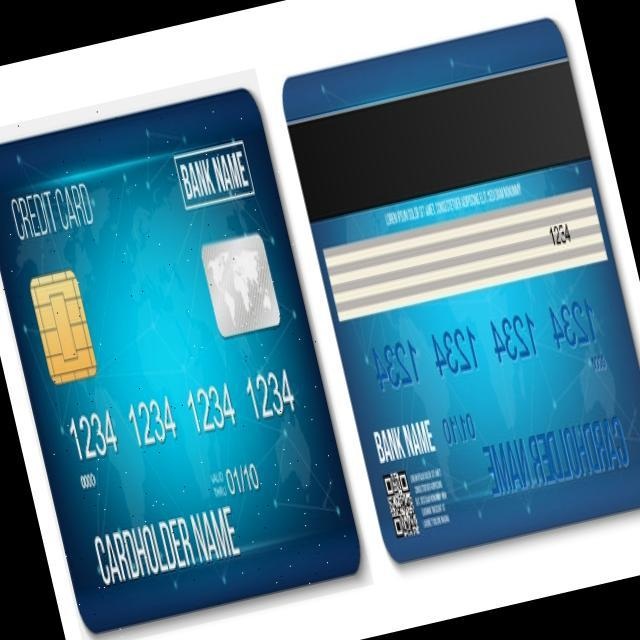payment_card: (0, 87, 359, 635), (282, 16, 640, 563)
